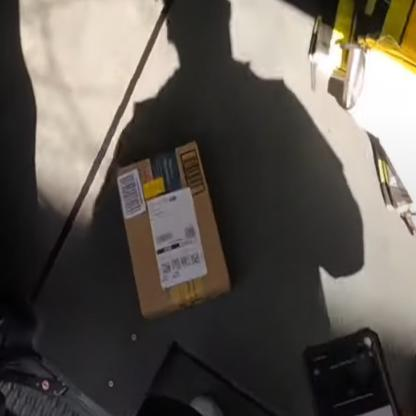package: (114, 136, 233, 328)
